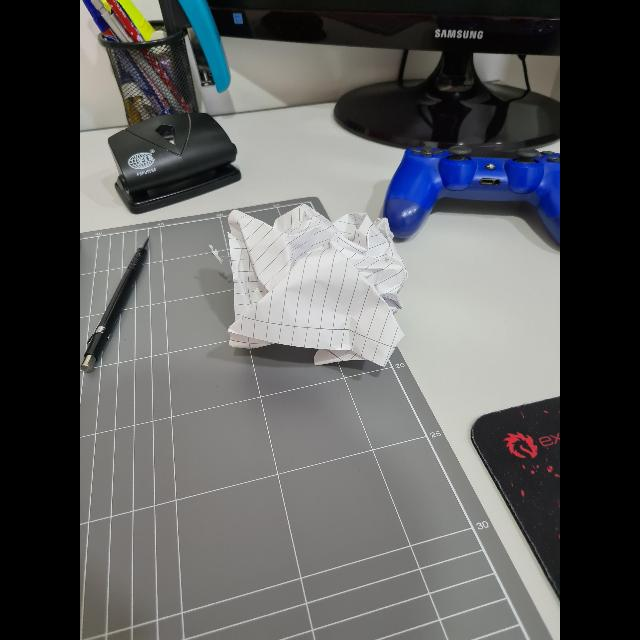scrap_paper: (212, 198, 406, 372)
